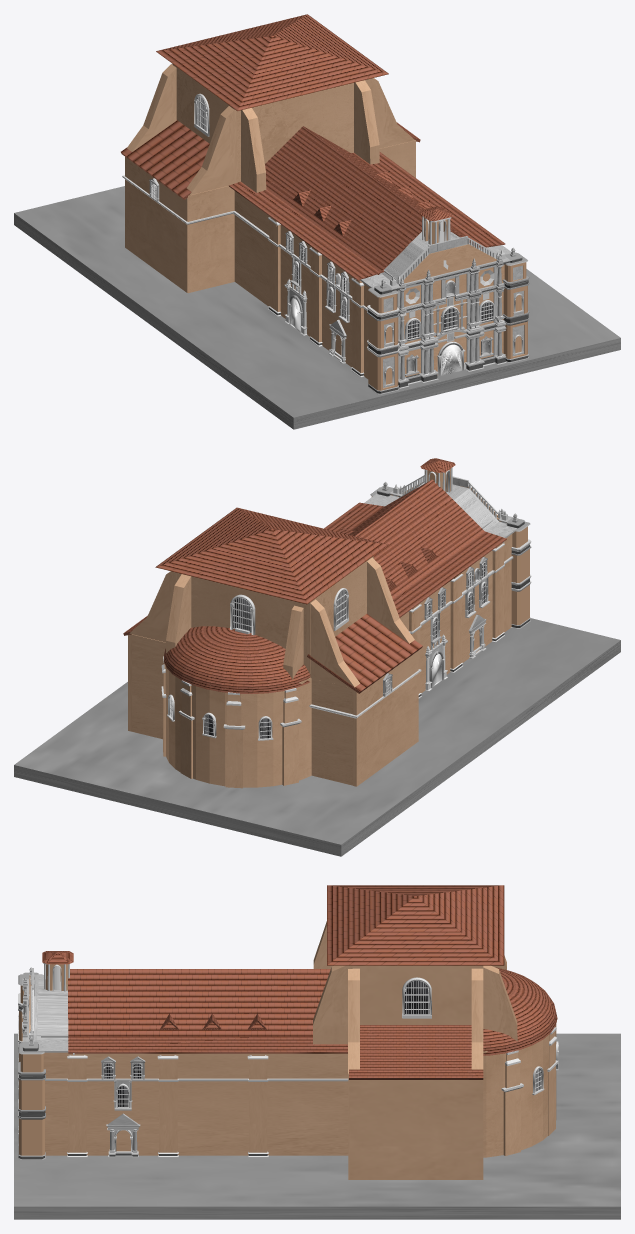
Rendered from SanFrancisco.glb.
3 renders of one model, top to bottom at view 1: azimuth 30°, elevation 25°; view 2: azimuth 150°, elevation 25°; view 3: azimuth 270°, elevation 25°, orthographic. The views are drawn at different scales.
Parts seen in each view (by area): view 1: Cube.897, Cube.263, Cube.283, Cube.595, Cube.266, Cube.271, Cube.267, Cube.392, Cube.742, Cube.451, Cube.513, Cube.452 (+16 smaller); view 2: Cube.897, Cube.263, Cylinder.025, Cube.270, Sphere, Cube.266, Cube.283, Cube.275, Cube.742, Cube.595, Cube.451, Cube.392 (+16 smaller); view 3: Cube.897, Cube.001, Cube.263, Cube.269, Cube.422, Cube.748, Cube.449, Cube.274, Cylinder.025, Cube.452, Sphere, Cube.743 (+11 smaller).
Boxes of the visible parts, <box> form: Cube.897: <box>14,186,620,429</box>; Cube.263: <box>156,14,388,110</box>; Cube.283: <box>265,144,413,274</box>; Cube.595: <box>235,191,364,375</box>; Cube.266: <box>125,157,187,292</box>; Cube.271: <box>237,79,370,182</box>; Cube.267: <box>187,186,234,293</box>; Cube.392: <box>285,126,422,256</box>; Cube.742: <box>121,120,209,199</box>; Cube.451: <box>229,181,384,280</box>; Cube.513: <box>404,264,504,376</box>; Cube.452: <box>351,152,505,247</box>; Cube.897: <box>14,618,620,856</box>; Cube.263: <box>155,507,388,604</box>; Cylinder.025: <box>165,666,311,787</box>; Cube.270: <box>132,634,352,785</box>; Sphere: <box>164,626,310,693</box>; Cube.266: <box>353,650,418,786</box>; Cube.283: <box>373,498,484,598</box>; Cube.275: <box>178,573,305,666</box>; Cube.742: <box>307,614,422,693</box>; Cube.595: <box>399,551,492,692</box>; Cube.451: <box>393,531,506,617</box>; Cube.392: <box>355,479,450,543</box>; Cube.897: <box>14,1033,620,1219</box>; Cube.001: <box>43,1052,348,1155</box>; Cube.263: <box>327,885,504,965</box>; Cube.269: <box>349,1080,483,1179</box>; Cube.422: <box>68,991,322,1036</box>; Cube.748: <box>349,1025,483,1079</box>; Cube.449: <box>68,969,330,1018</box>; Cube.274: <box>352,965,483,1024</box>; Cylinder.025: <box>483,1025,556,1157</box>; Cube.452: <box>68,1036,347,1053</box>; Sphere: <box>483,967,557,1055</box>; Cube.743: <box>313,965,347,1044</box>.
Size of what is drawn, in the model's own units: 63.23 by 40.32 by 93.61.
Materials: 237 (163 with a texture image).
